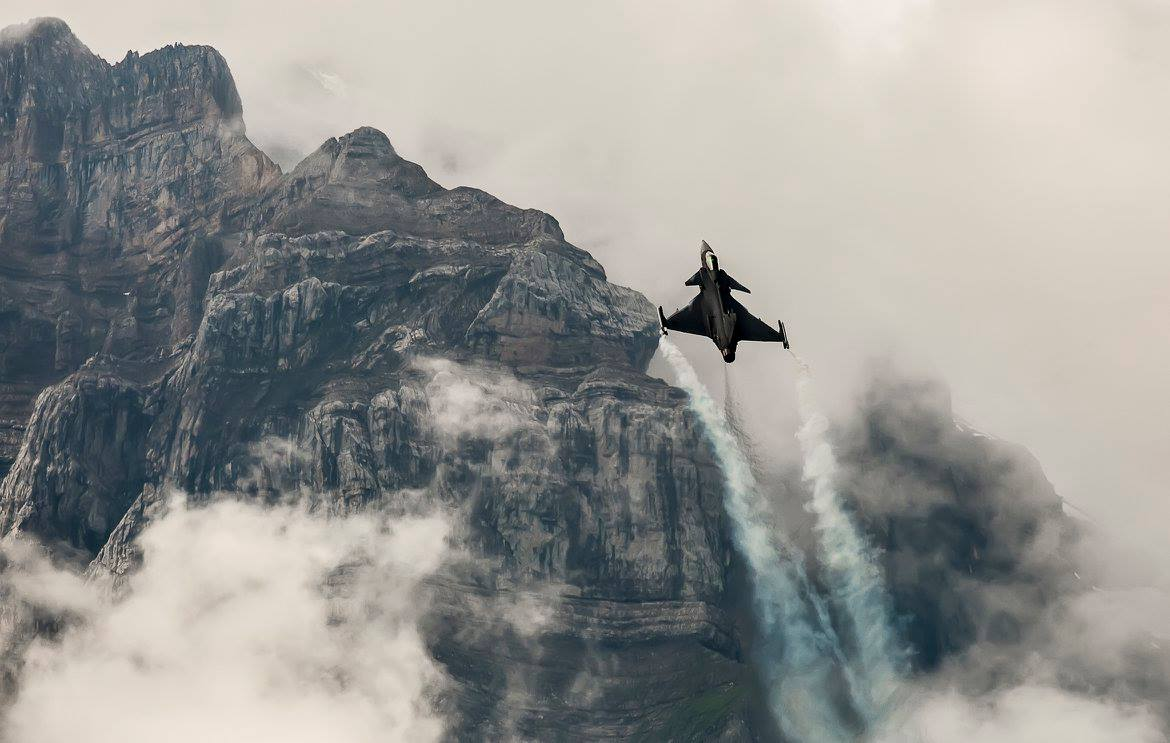JAS39: (658, 239, 790, 364)
